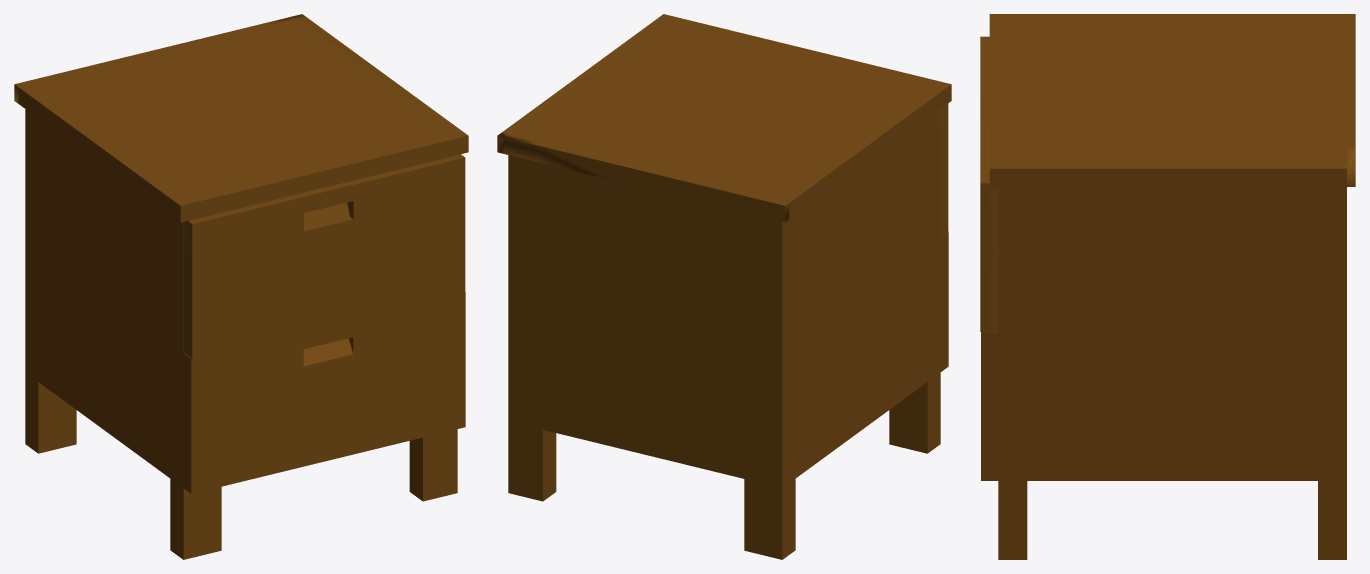
Rendered from sideTableDrawers.fbx.
The picture shows the model from 3 angles, left to right: view 1: azimuth 30°, elevation 25°; view 2: azimuth 150°, elevation 25°; view 3: azimuth 270°, elevation 25°; orthographic projection. The views are drawn at different scales.
Parts seen in each view (by area): view 1: Cube.008; view 2: Cube.008; view 3: Cube.008.
Boxes of the visible parts, bbox=[...] form: Cube.008: bbox=[14, 14, 468, 559]; Cube.008: bbox=[497, 14, 951, 559]; Cube.008: bbox=[980, 14, 1355, 559].
Size of the model in its own units: 52.4 by 62.38 by 53.74.
